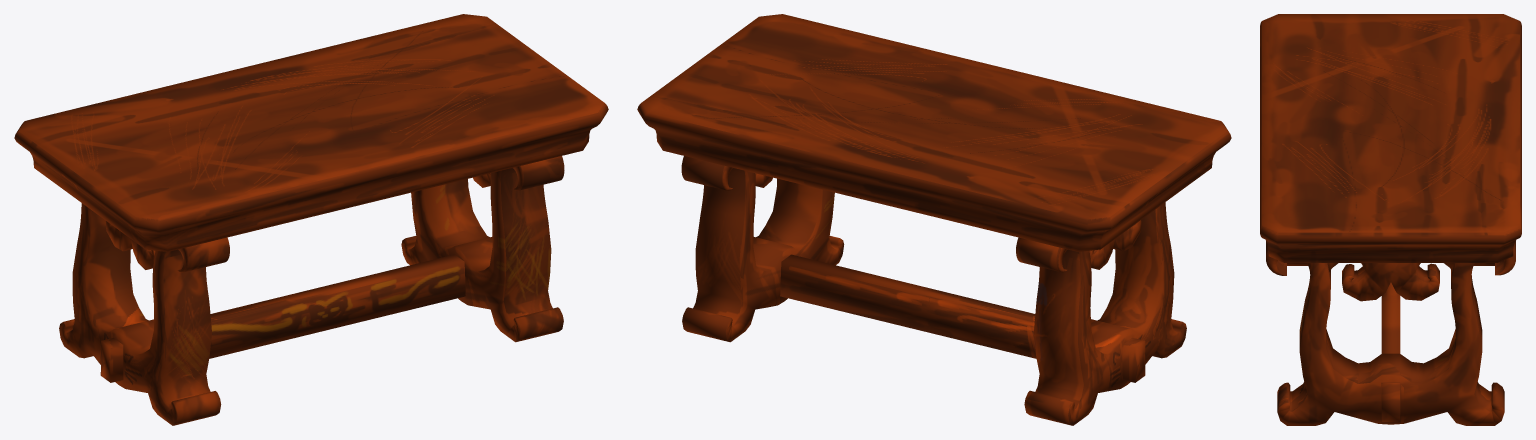
Rendered from HardwoodTable.fbx.
3 views of the same model, side by side, from view 1: azimuth 30°, elevation 25°; view 2: azimuth 150°, elevation 25°; view 3: azimuth 270°, elevation 25° (orthographic). The views are drawn at different scales.
Parts seen in each view (by area): view 1: fancy table; view 2: fancy table; view 3: fancy table.
Part boxes in pixels (x1,y1,x2,y2): fancy table: (14, 14, 608, 425); fancy table: (637, 14, 1231, 425); fancy table: (1260, 14, 1521, 425).
Size of the model in its own units: 245 by 110 by 123.
Materials: 1 (1 with a texture image).
